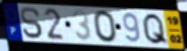2: (43, 7, 67, 42)
3: (72, 8, 92, 43)
9: (122, 12, 142, 45)
O: (92, 9, 119, 44)
Q: (141, 12, 170, 46)
S: (19, 6, 44, 40)
